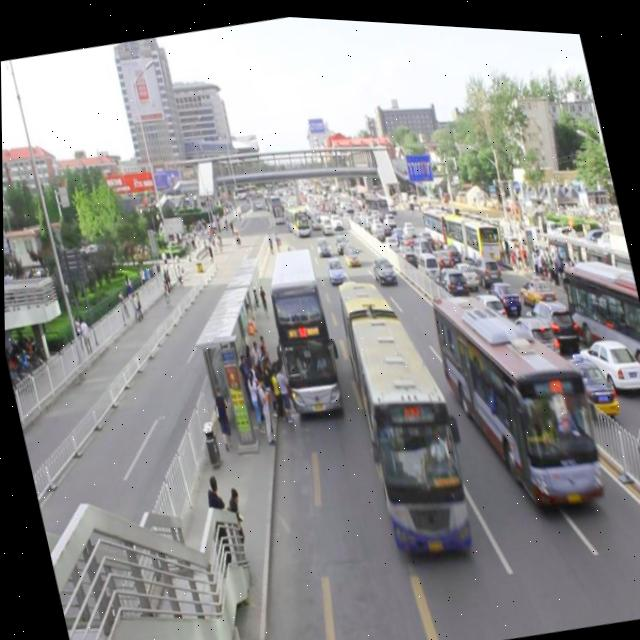car: (369, 248, 395, 281), (322, 249, 345, 281), (313, 229, 328, 255), (340, 239, 357, 260), (330, 228, 347, 249), (327, 208, 342, 229), (307, 207, 319, 225)
truck: (316, 207, 332, 232)
van: (429, 265, 603, 517), (333, 261, 472, 558), (260, 243, 342, 412), (280, 197, 310, 236)
